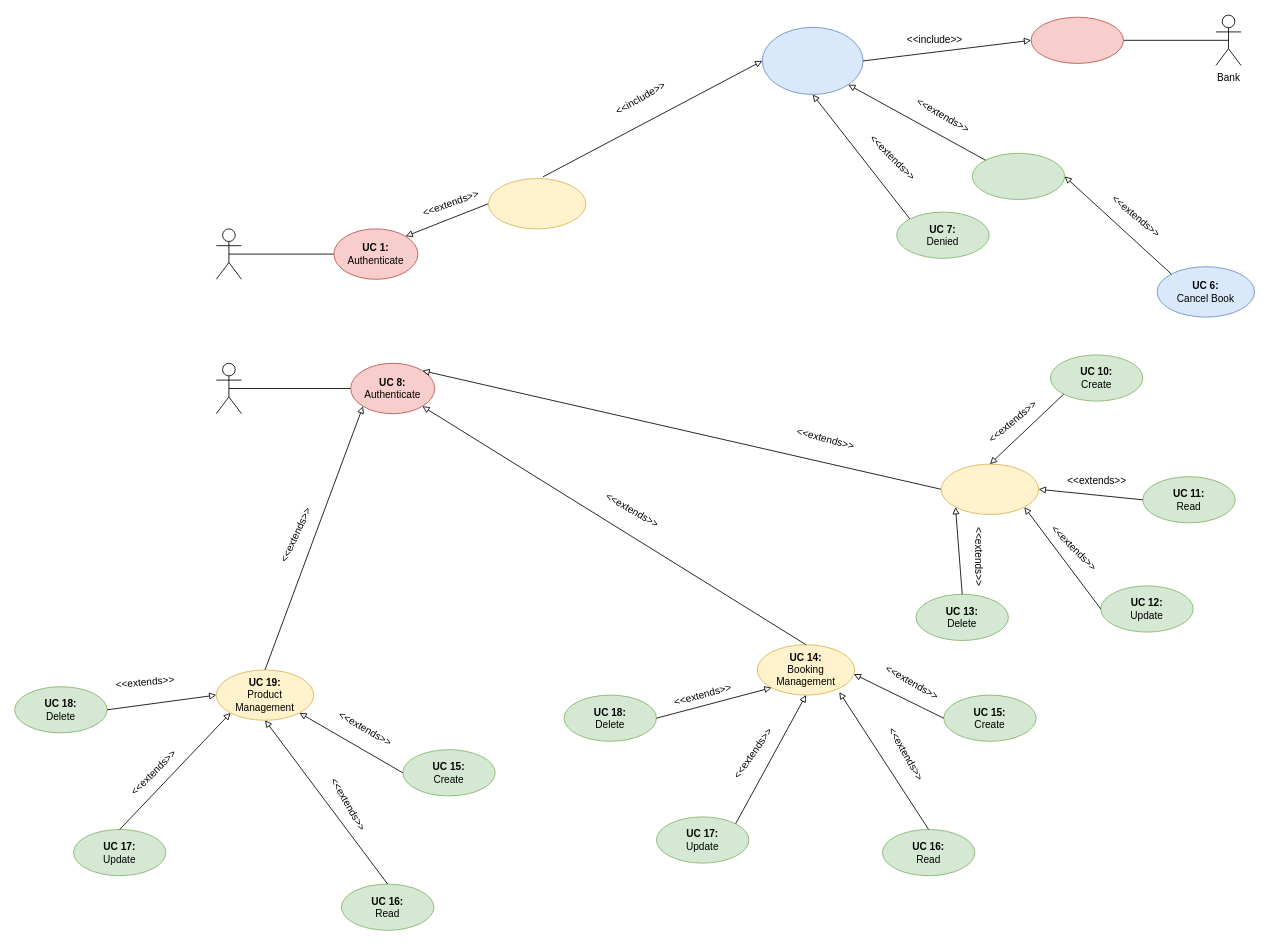
The diagram is 1269 pixels wide and 945 high, and some of its shapes have lost their labels. The shapes that lost their labels are listed below. From the top down, each one's centre as x and y in pixels, then its label:
the point at 1077,39: UC 4: Check
the point at 812,60: UC 3: Payment
the point at 1018,176: UC 5: Accepted
the point at 537,203: UC 2: Book
the point at 228,253: User
the point at 228,388: Admin
the point at 989,488: UC 9: User Management
